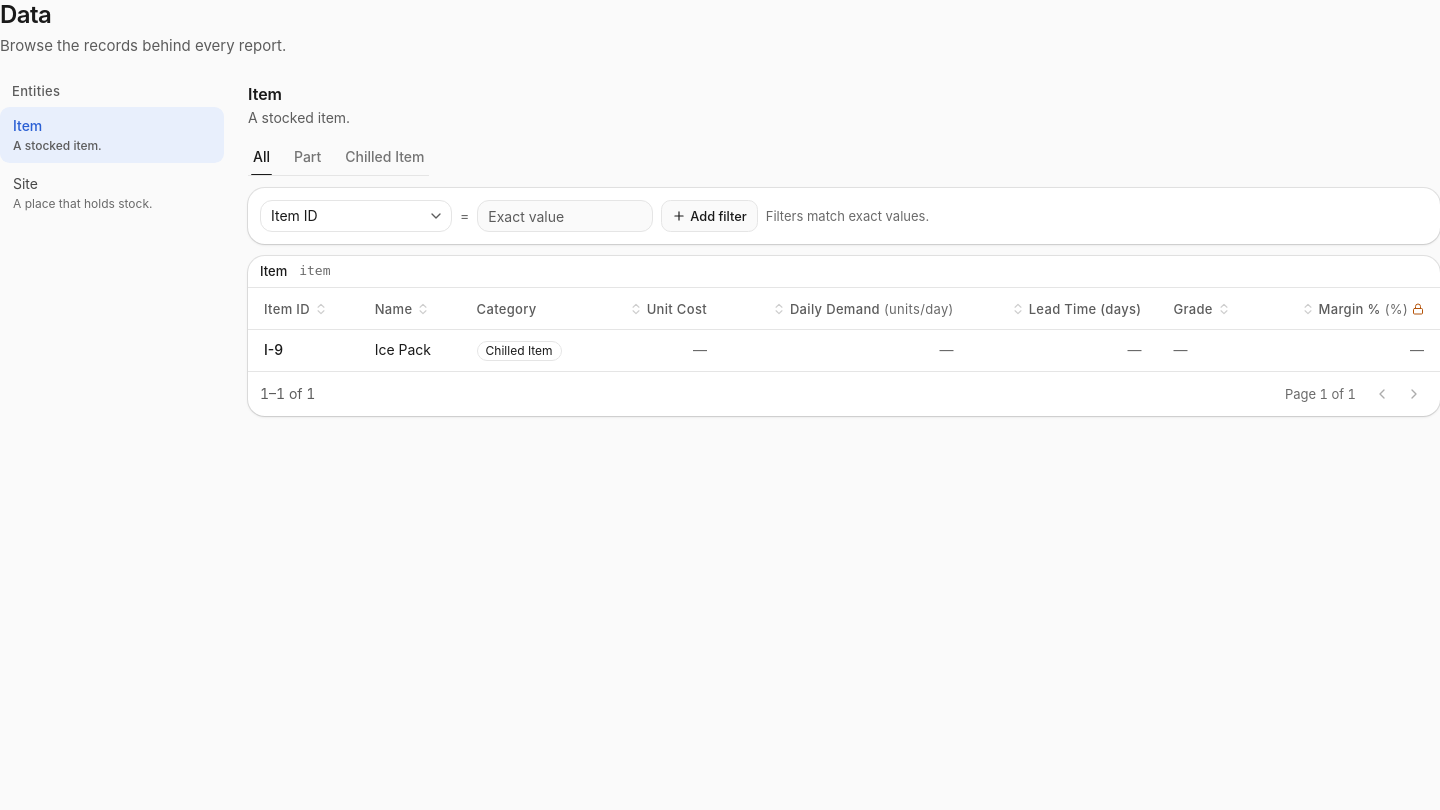
Test: DataView › opens a record with its core fields and its category's attributes
Click the button named "Open record I-9": coordinates (274, 350) left=264, top=340, right=283, bottom=360
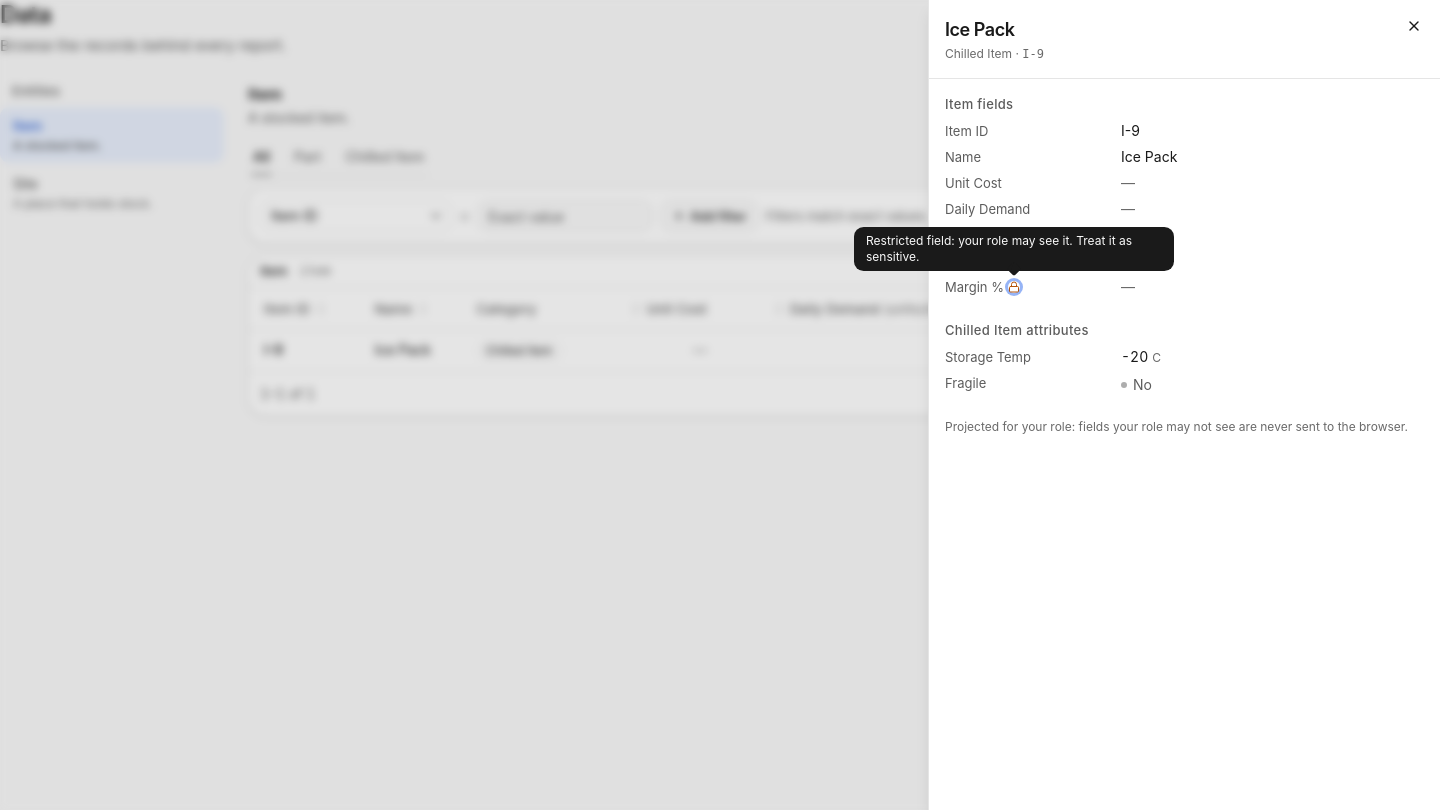
Expected: the heading "Ice Pack" is shown, left=945, top=19, right=1015, bottom=40
Expected: the heading "Item fields" is shown, left=945, top=96, right=1014, bottom=112
Expected: the text "Storage Temp" is shown, left=945, top=349, right=1031, bottom=365
